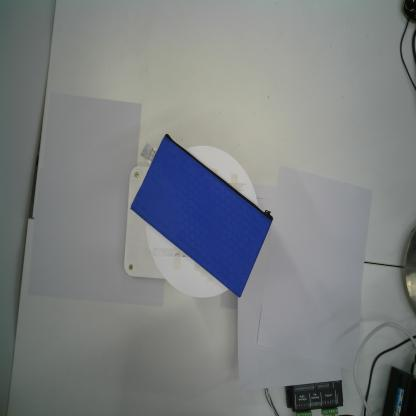Stationery: (129, 131, 273, 298)
